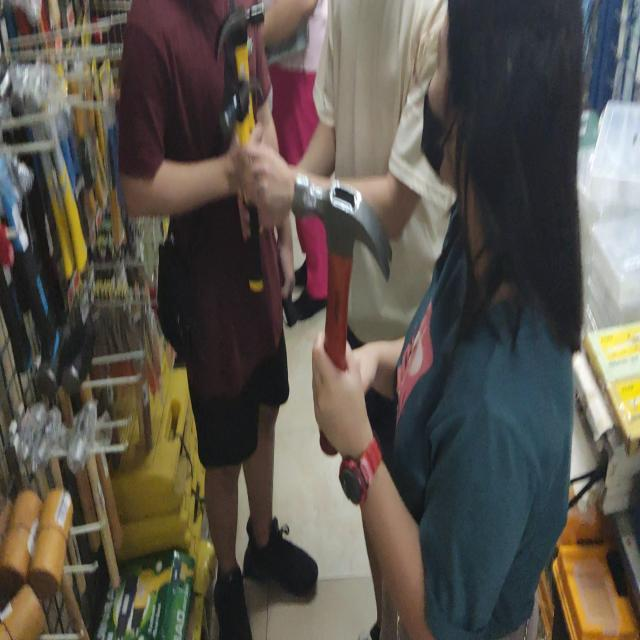hammer: (292, 175, 392, 454), (219, 78, 264, 293), (215, 0, 265, 78)
